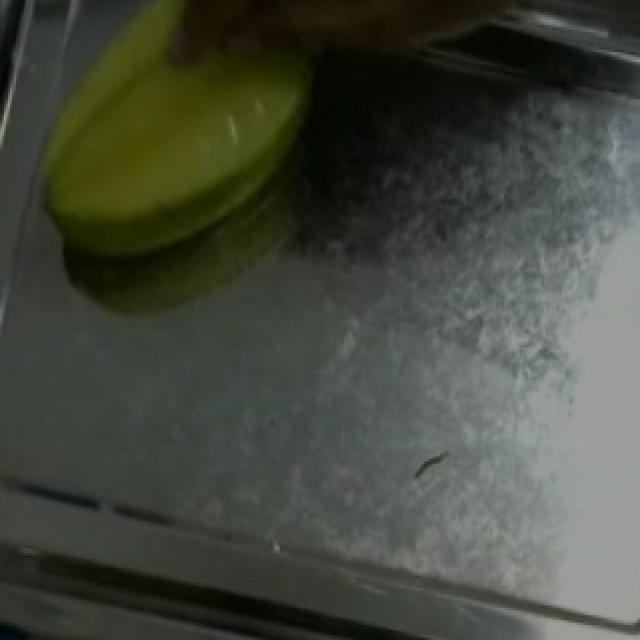fruit: (4, 0, 340, 283)
